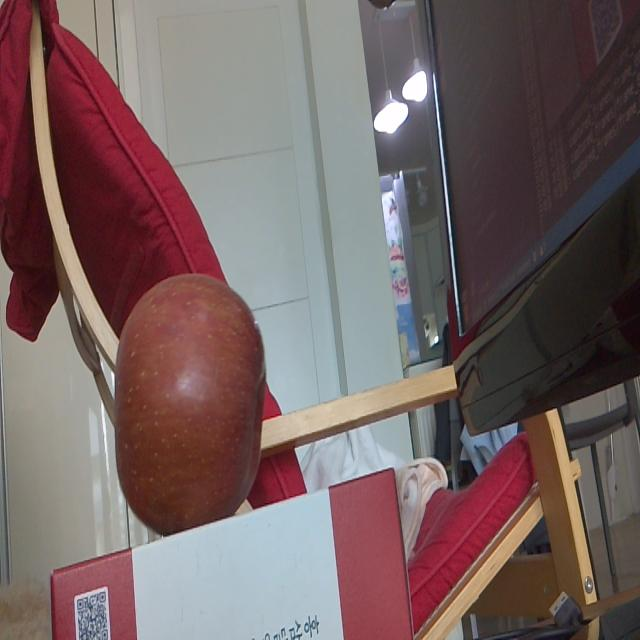apple: (115, 274, 269, 533)
